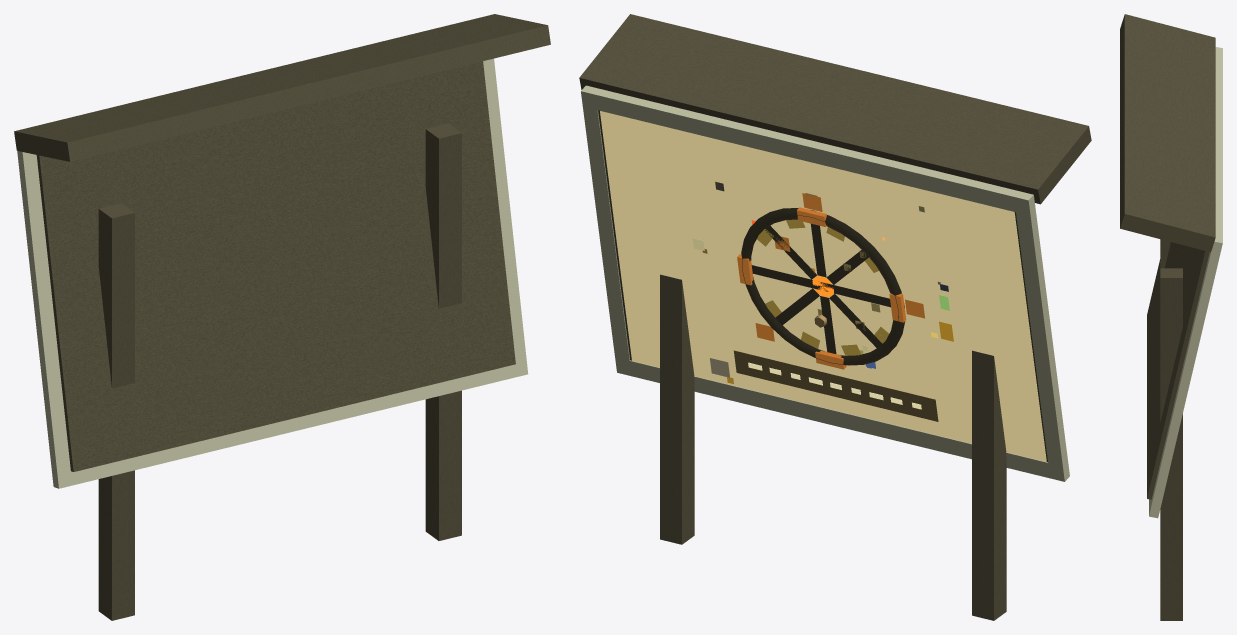
The model's file is candidate.glb.
3 views of the same model, side by side, from view 1: azimuth 30°, elevation 25°; view 2: azimuth 150°, elevation 25°; view 3: azimuth 270°, elevation 25° (orthographic). The views are drawn at different scales.
Visible parts, largest first — view 1: mb3_0, mb3_1; view 2: mb3_2, mb3_0, mb3_1, mb3_6, mb3_3, mb3_8, mb3_9, mb3_7; view 3: mb3_0, mb3_1.
Part boxes in pixels (x1,y1,x2,y2): mb3_0: (14,14,550,620); mb3_1: (17,58,528,488); mb3_2: (600,111,1046,461); mb3_0: (579,14,1091,620); mb3_1: (581,85,1069,481); mb3_6: (741,208,905,365); mb3_3: (733,350,938,421); mb3_8: (737,193,925,369); mb3_9: (757,219,888,355); mb3_7: (751,265,890,307); mb3_0: (1120,14,1215,620); mb3_1: (1149,47,1222,518).
Size of the model in its own units: 2.5 by 2.53 by 0.5431.
Materials: 26 (1 with a texture image).
